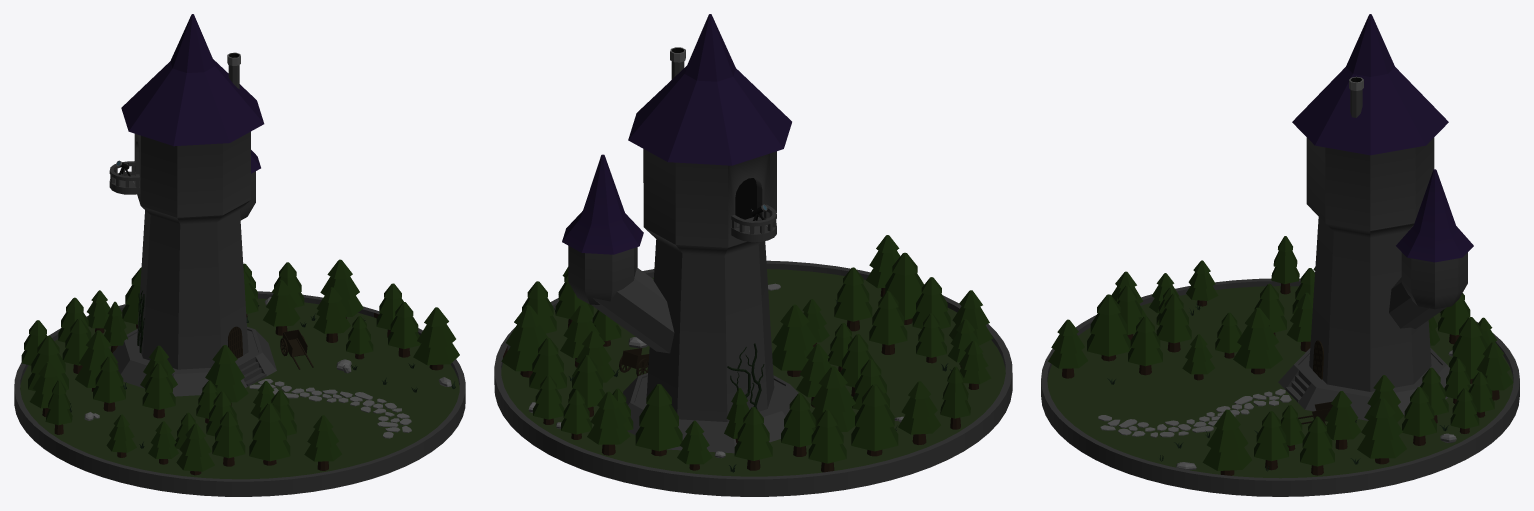
File: 16_09_07 - Low Poly Wizards Tower.obj
The picture shows the model from 3 angles, left to right: view 1: azimuth 30°, elevation 25°; view 2: azimuth 150°, elevation 25°; view 3: azimuth 270°, elevation 25°; orthographic projection. The views are drawn at different scales.
Visible parts, largest first — view 1: pCylinder62, pCylinder7, pCylinder114, pCylinder82, pCylinder71, pCylinder65, pCylinder94, pCylinder91, pCylinder85, pCylinder86, pCylinder63, pCylinder72 (+24 smaller); view 2: pCylinder7, pCylinder62, pCylinder8, pCylinder9, pCylinder114, pCylinder75, pCylinder80, pCylinder65, pCylinder89, pCylinder67, pCylinder81, pCylinder71 (+32 smaller); view 3: pCylinder62, pCylinder7, pCylinder8, pCylinder114, pCylinder89, pCylinder65, pCylinder82, pCylinder71, pCylinder80, pCylinder91, pCylinder84, pCylinder68 (+21 smaller).
Part boxes in pixels (bbox=[...]): pCylinder62: bbox=[14, 291, 465, 496]; pCylinder7: bbox=[121, 14, 264, 369]; pCylinder114: bbox=[110, 327, 276, 396]; pCylinder82: bbox=[413, 307, 459, 370]; pCylinder71: bbox=[249, 402, 290, 465]; pCylinder65: bbox=[201, 345, 248, 405]; pCylinder94: bbox=[176, 423, 214, 475]; pCylinder91: bbox=[304, 415, 341, 470]; pCylinder85: bbox=[313, 287, 350, 342]; pCylinder86: bbox=[263, 280, 300, 335]; pCylinder63: bbox=[142, 362, 175, 418]; pCylinder72: bbox=[212, 411, 245, 466]; pCylinder7: bbox=[628, 14, 791, 421]; pCylinder62: bbox=[494, 260, 1012, 496]; pCylinder8: bbox=[562, 154, 643, 304]; pCylinder9: bbox=[591, 267, 674, 353]; pCylinder114: bbox=[623, 373, 798, 453]; pCylinder75: bbox=[851, 384, 898, 456]; pCylinder80: bbox=[635, 384, 682, 456]; pCylinder65: bbox=[772, 304, 817, 376]; pCylinder89: bbox=[501, 305, 547, 377]; pCylinder67: bbox=[810, 366, 855, 431]; pCylinder81: bbox=[587, 391, 630, 455]; pCylinder71: bbox=[885, 252, 924, 324]; pCylinder62: bbox=[1041, 278, 1519, 496]; pCylinder7: bbox=[1292, 14, 1448, 391]; pCylinder8: bbox=[1396, 169, 1473, 309]; pCylinder114: bbox=[1278, 348, 1449, 420]; pCylinder89: bbox=[1357, 397, 1406, 464]; pCylinder65: bbox=[1233, 307, 1282, 374]; pCylinder82: bbox=[1202, 409, 1251, 475]; pCylinder71: bbox=[1087, 294, 1130, 361]; pCylinder80: bbox=[1449, 317, 1488, 383]; pCylinder91: bbox=[1048, 319, 1087, 378]; pCylinder84: bbox=[1300, 416, 1334, 475]; pCylinder68: bbox=[1156, 293, 1191, 352].
Bounding box in the file's own units: 11.37 × 9.92 × 11.37.
